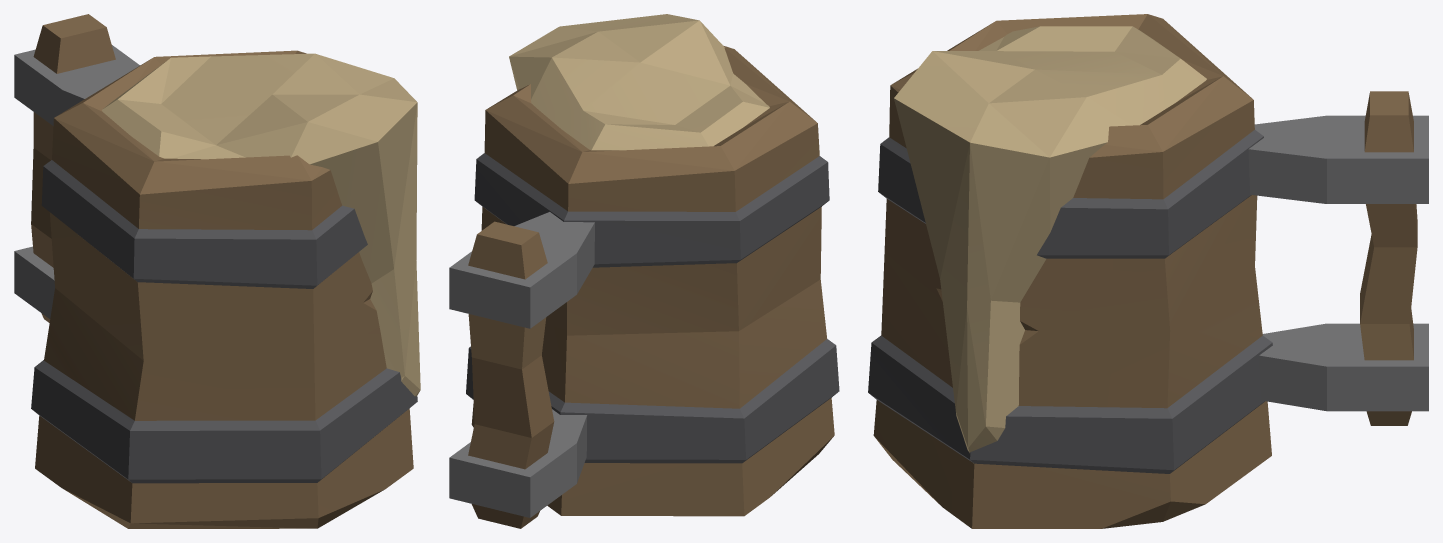
File: Vaso_Lleno.glb
The picture shows the model from 3 angles, left to right: view 1: azimuth 30°, elevation 25°; view 2: azimuth 150°, elevation 25°; view 3: azimuth 270°, elevation 25°; orthographic projection. The views are drawn at different scales.
Visible parts, largest first — view 1: SM_Prop_Beer_Mug_02_1; view 2: SM_Prop_Beer_Mug_02_1; view 3: SM_Prop_Beer_Mug_02_1.
Boxes of the visible parts, left/top/right/bottom form: SM_Prop_Beer_Mug_02_1: left=14, top=14, right=420, bottom=528; SM_Prop_Beer_Mug_02_1: left=449, top=14, right=839, bottom=528; SM_Prop_Beer_Mug_02_1: left=868, top=14, right=1428, bottom=528.
Bounding box in the file's own units: 0.2889 × 0.3557 × 0.4355.
1 material, 1 textured.
